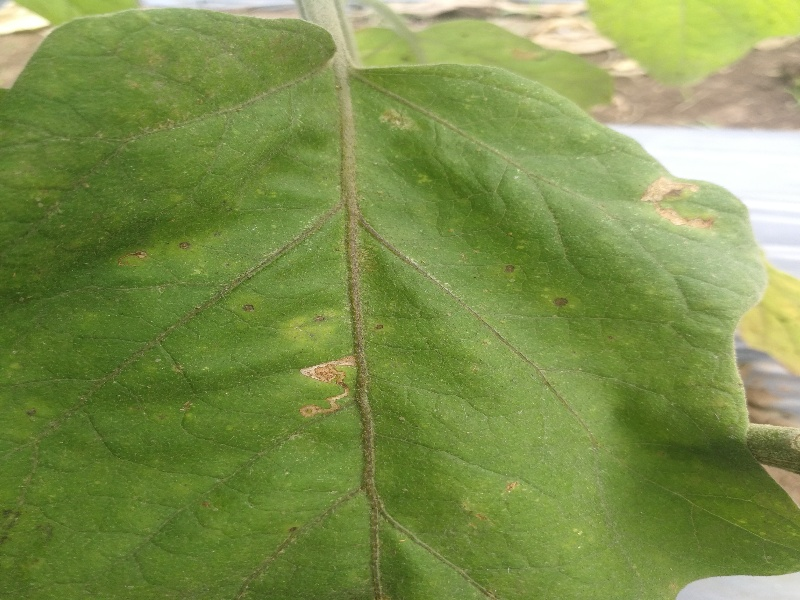leafminer: (282, 347, 375, 433)
